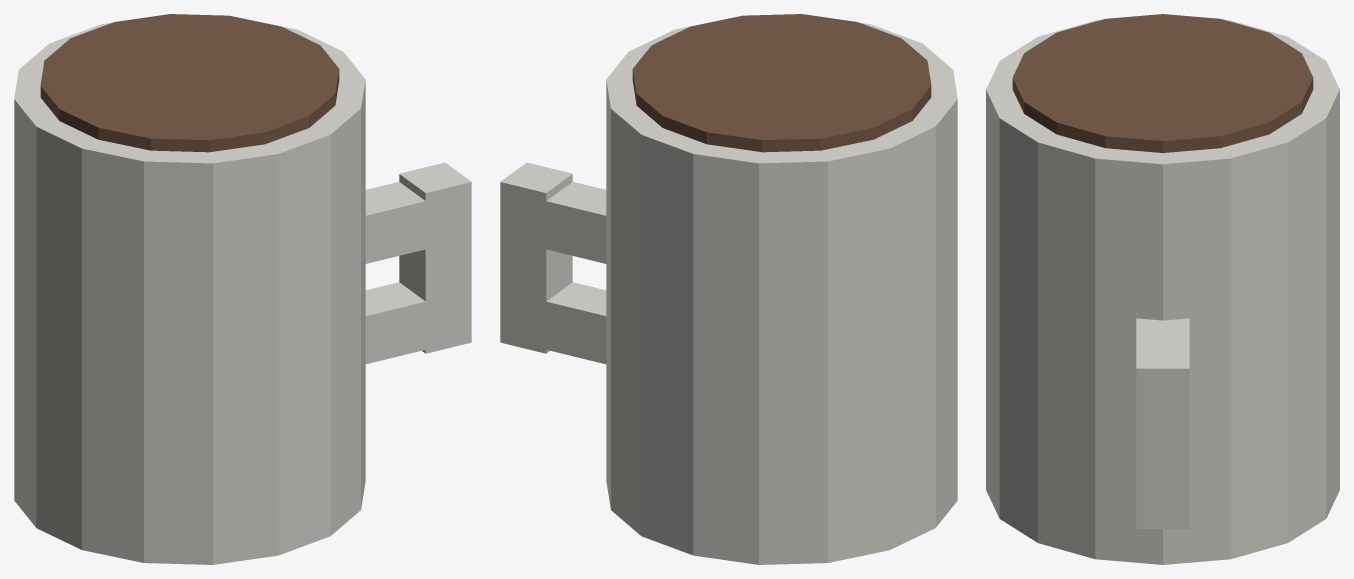
File: dm_coffeemug.glb
The picture shows the model from 3 angles, left to right: view 1: azimuth 30°, elevation 25°; view 2: azimuth 150°, elevation 25°; view 3: azimuth 270°, elevation 25°; orthographic projection.
Parts seen in each view (by area): view 1: dm_coffeemug; view 2: dm_coffeemug; view 3: dm_coffeemug.
Part boxes in pixels (x1,y1,x2,y2): dm_coffeemug: (14,14,471,564); dm_coffeemug: (500,14,957,564); dm_coffeemug: (986,14,1339,564).
Bounding box in the file's own units: 0.11 × 0.103 × 0.08.
